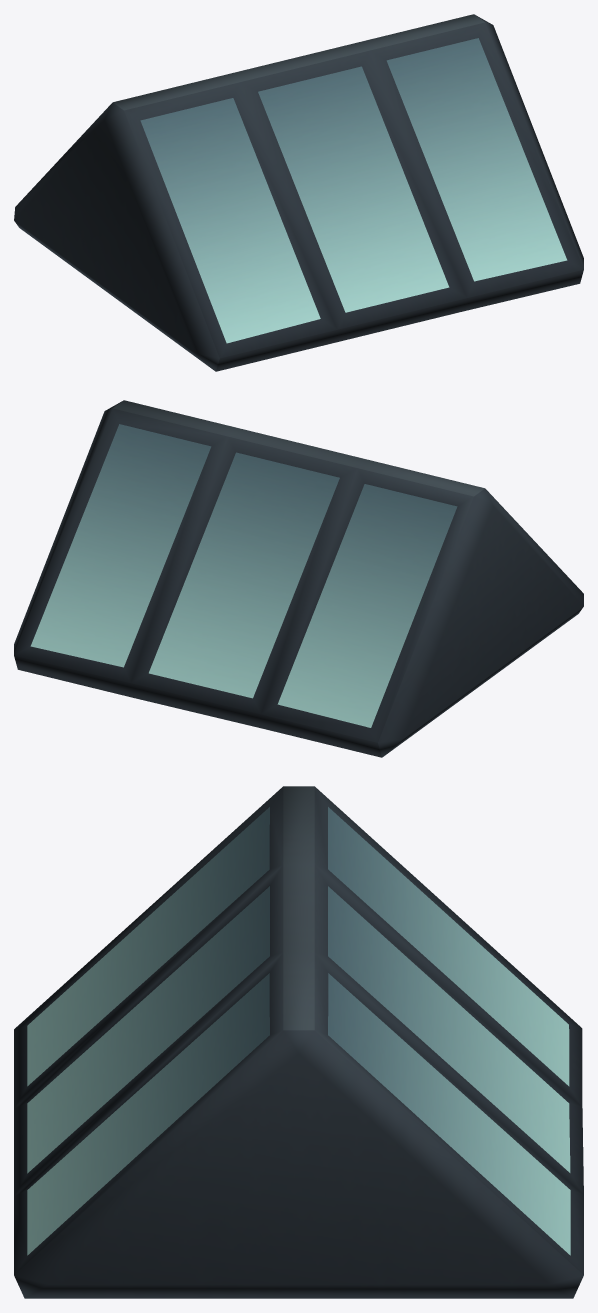
File: rooftop_windows_tent_small.fbx
3 renders of one model, top to bottom at view 1: azimuth 30°, elevation 25°; view 2: azimuth 150°, elevation 25°; view 3: azimuth 270°, elevation 25°, orthographic. The views are drawn at different scales.
Visible parts, largest first — view 1: rooftop_windows_tent_small; view 2: rooftop_windows_tent_small; view 3: rooftop_windows_tent_small.
Part boxes in pixels (x1,y1,x2,y2): rooftop_windows_tent_small: (14,14,583,371); rooftop_windows_tent_small: (14,400,583,757); rooftop_windows_tent_small: (14,786,583,1298).
Size of the model in its own units: 200 by 94.98 by 183.
